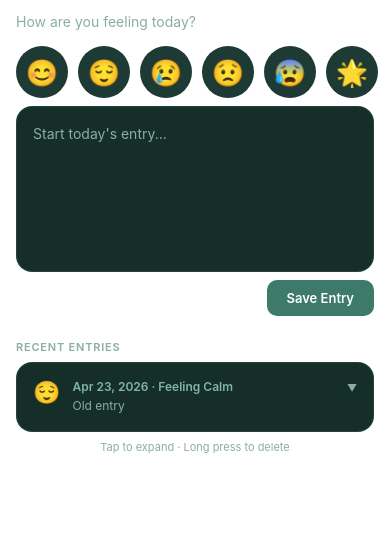
JournalPanel Component › saves entry and fetches lists successfully
Expected: the text "Old entry" is shown, x1=72 y1=398 x2=125 y2=413
Click the text "😊": (42, 72) x1=26 y1=56 x2=58 y2=88
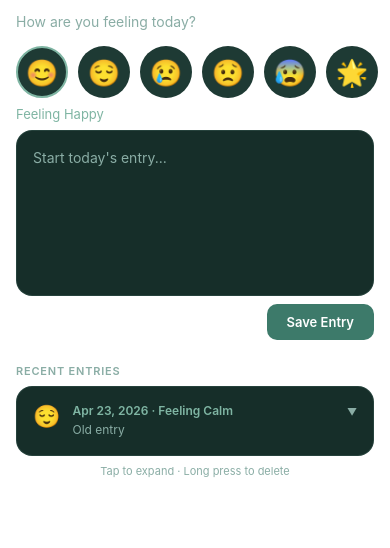
In the text box with placeholder "Start today's entry...": (195, 213) x1=16 y1=130 x2=374 y2=296, type "New text"
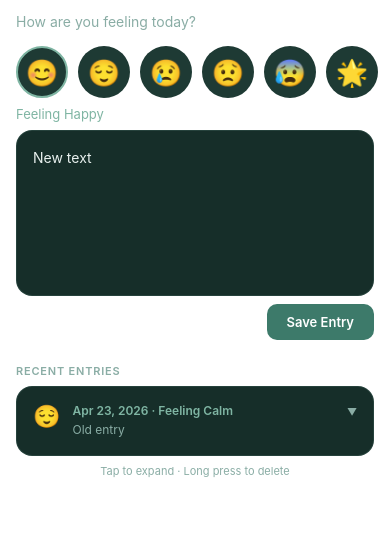
Click the text "Save Entry": (320, 322) x1=286 y1=314 x2=354 y2=330
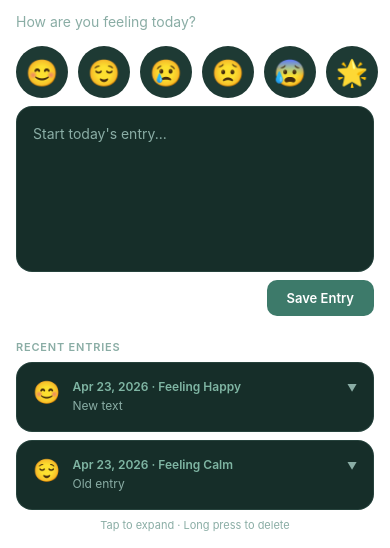
Expected: the text "New text" is shown, x1=72 y1=398 x2=123 y2=413
